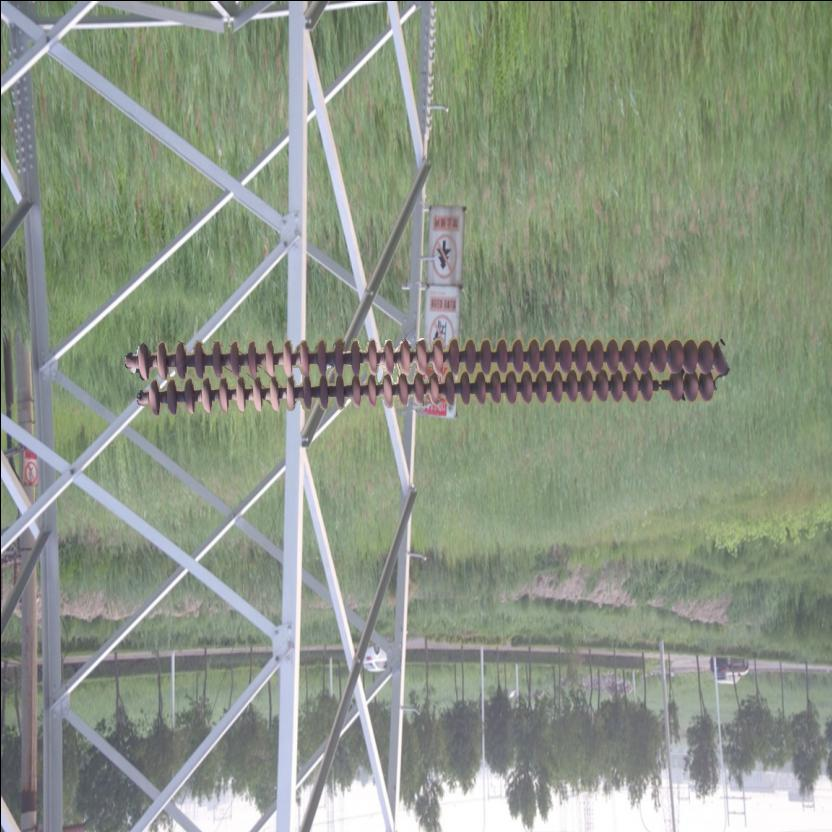defect: (640, 374, 687, 406)
